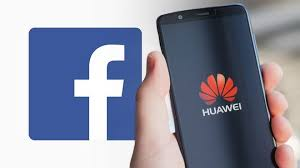huawei: (151, 3, 280, 168)
